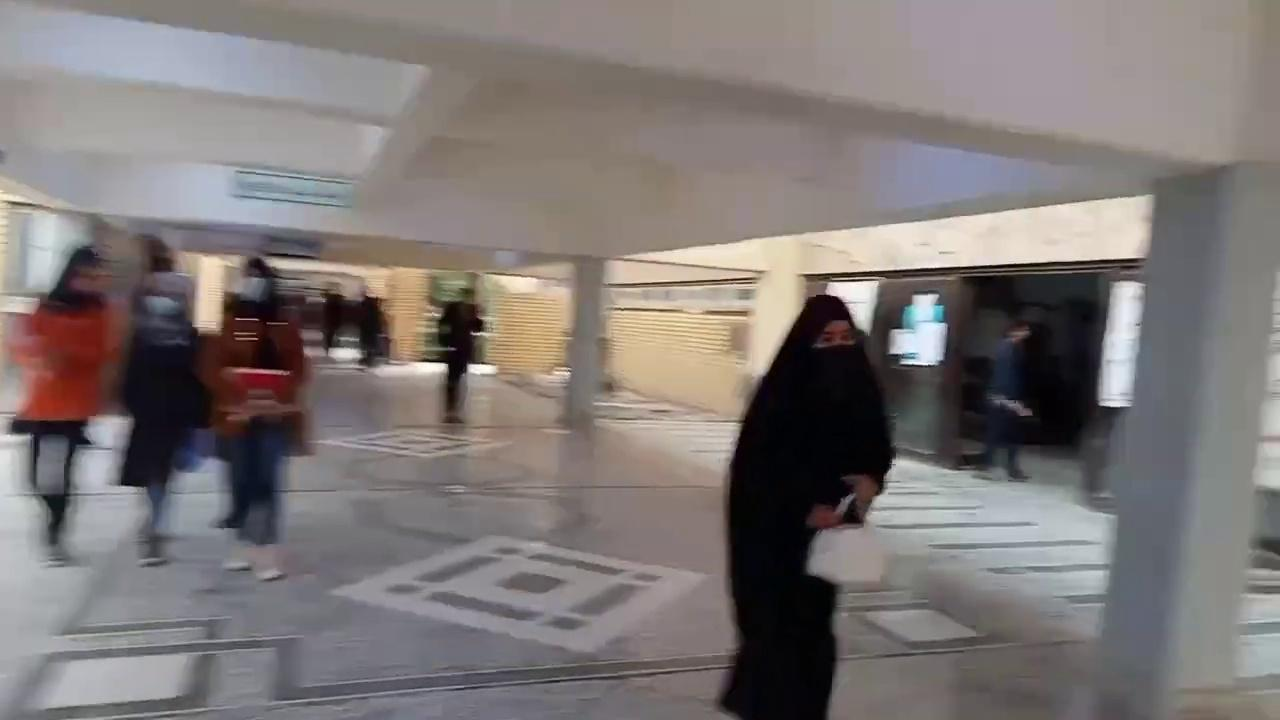person: (715, 291, 894, 718), (8, 244, 118, 566), (207, 261, 306, 591), (115, 233, 208, 566), (971, 317, 1035, 481), (436, 287, 484, 424), (357, 287, 387, 367), (319, 281, 345, 356)
